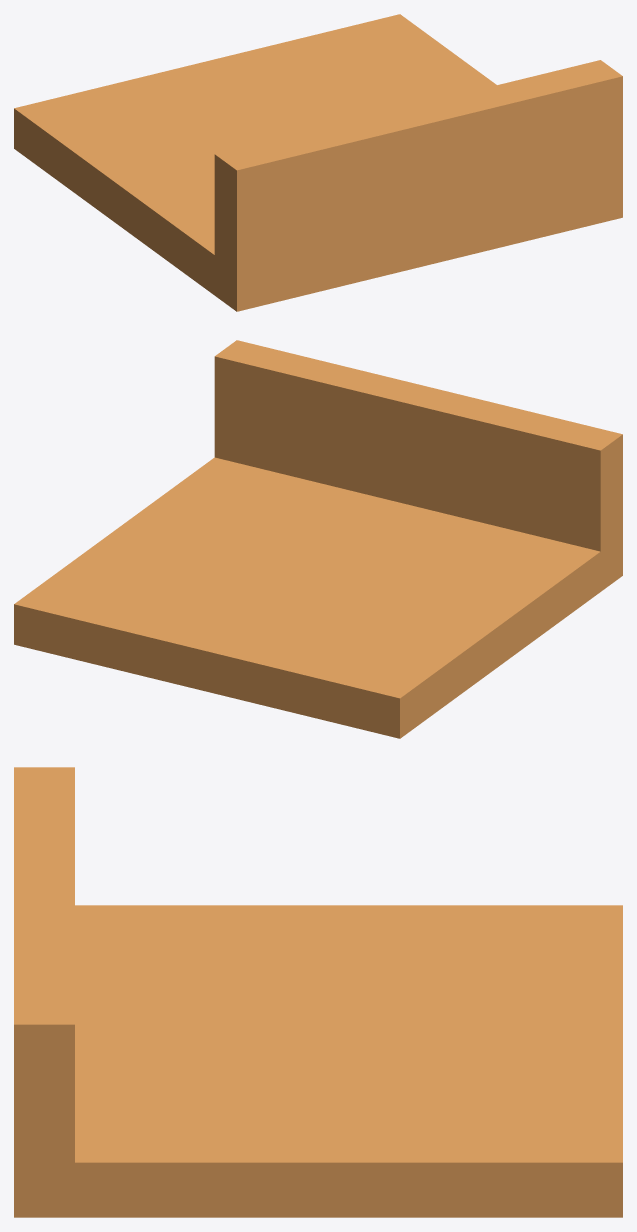
Rendered from YellowRoof_1Edge_Small.glb.
3 views of the same model, one above another, from view 1: azimuth 30°, elevation 25°; view 2: azimuth 150°, elevation 25°; view 3: azimuth 270°, elevation 25° (orthographic). The views are drawn at different scales.
Visible parts, largest first — view 1: roof_flat_1Edges_small_yellow; view 2: roof_flat_1Edges_small_yellow; view 3: roof_flat_1Edges_small_yellow.
Boxes of the visible parts, x1,y1,x2,y2 form: roof_flat_1Edges_small_yellow: [14, 14, 622, 311]; roof_flat_1Edges_small_yellow: [14, 340, 622, 738]; roof_flat_1Edges_small_yellow: [14, 767, 622, 1217].
Size of what is drawn, in the model's own units: 2 by 0.7 by 2.
Materials: 1 (1 with a texture image).
